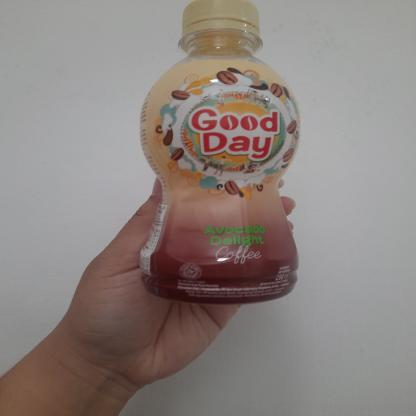bottle: (134, 0, 306, 306)
